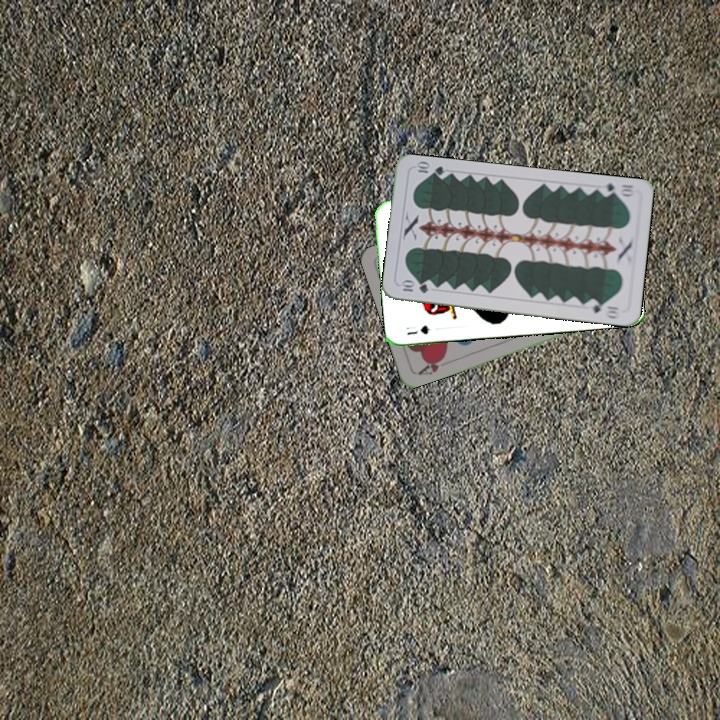G10: (596, 179, 637, 200), (397, 278, 431, 296)
GU: (403, 321, 433, 338)
HA: (414, 352, 448, 378)
